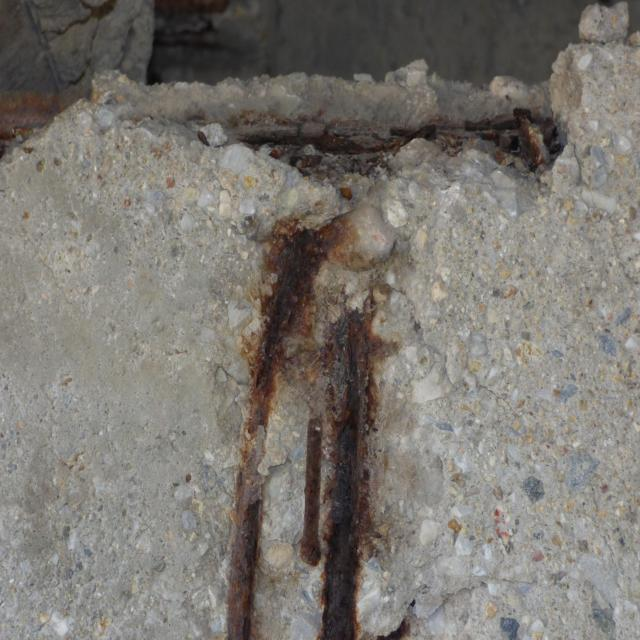corrosion: (196, 106, 584, 640), (0, 78, 82, 162)
